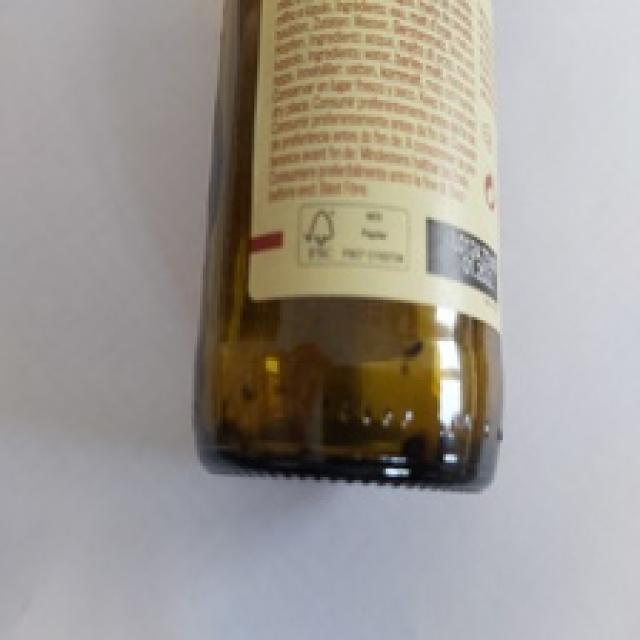Glass: (191, 0, 508, 499)
